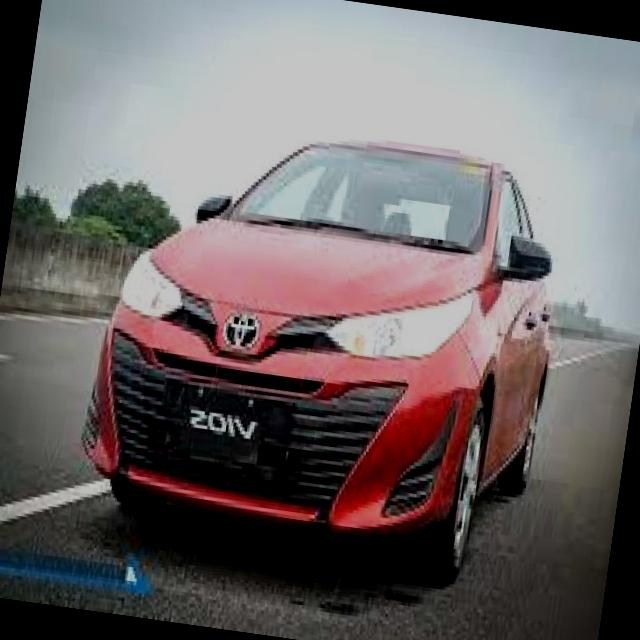ToyotaVios: (67, 102, 579, 596)
